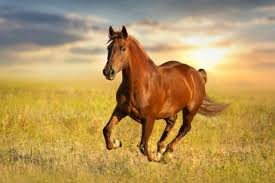horse: (102, 26, 230, 163)
